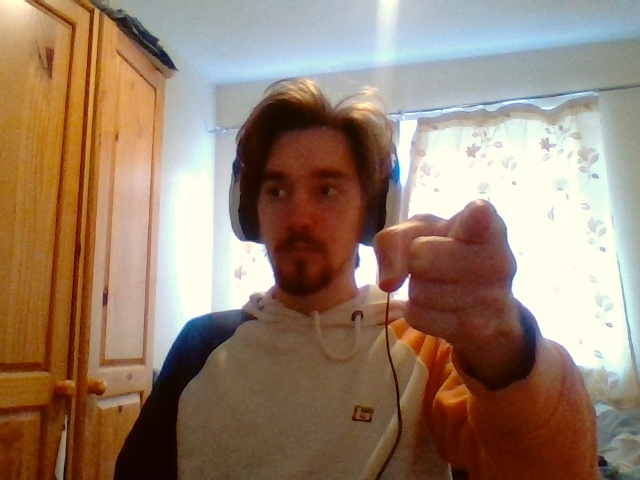you: (373, 200, 519, 339)
